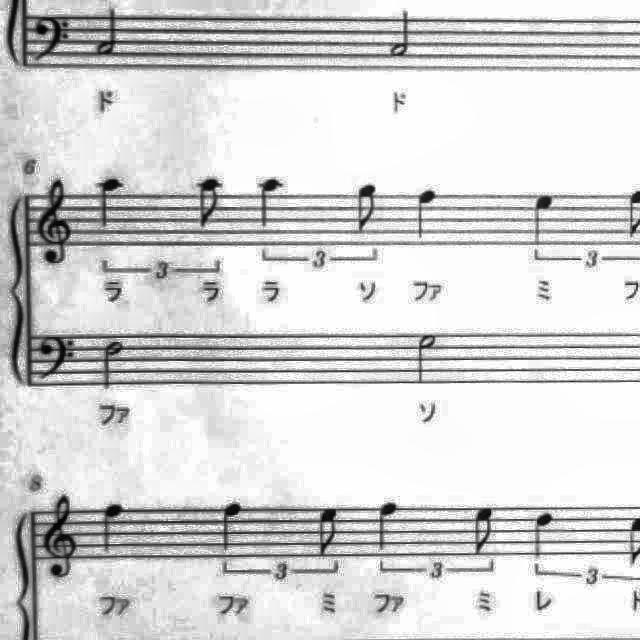Bass-clef: (34, 329, 82, 389), (32, 12, 78, 72)
Eighth-note: (346, 176, 386, 242), (189, 172, 229, 234), (310, 501, 346, 561), (468, 501, 504, 559), (620, 182, 640, 245), (622, 507, 640, 569)
Half-note: (90, 3, 130, 63), (386, 2, 424, 60), (96, 333, 132, 393), (412, 328, 444, 388)
Quarter-note: (525, 187, 563, 257), (406, 182, 446, 246), (93, 171, 131, 237), (252, 172, 290, 234), (96, 498, 132, 558), (524, 505, 560, 563), (370, 497, 406, 555), (216, 498, 250, 556)
Treble-clef: (34, 173, 82, 271), (38, 492, 86, 584)
